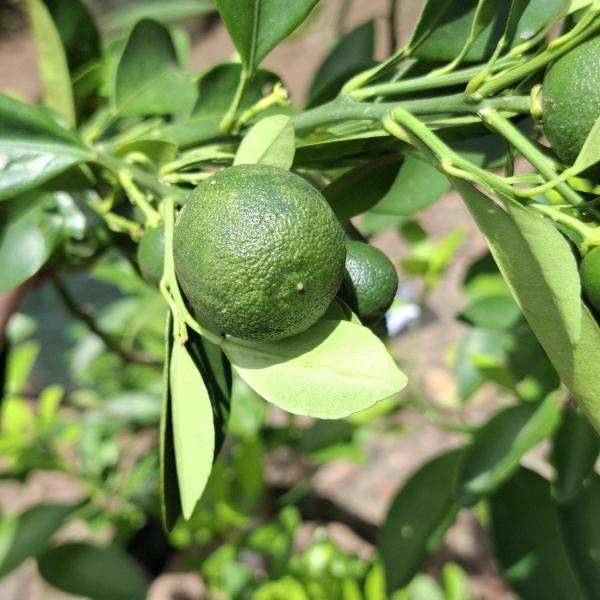Scab: (174, 159, 357, 350)
